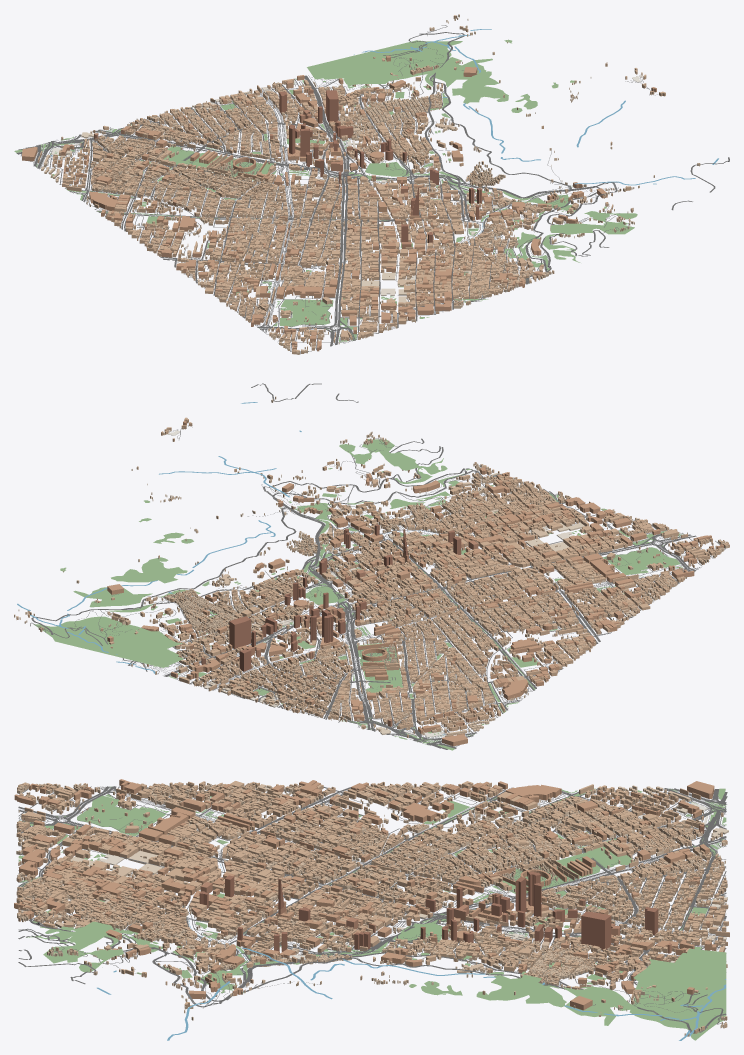
File: bogota_centro.glb
3 views of the same model, one above another, from view 1: azimuth 30°, elevation 25°; view 2: azimuth 150°, elevation 25°; view 3: azimuth 270°, elevation 25° (orthographic). The views are drawn at different scales.
Parts seen in each view (by area): view 1: Edificios_Zona, Vias_Zona, Verdes_Zona, Agua_Zona; view 2: Edificios_Zona, Vias_Zona, Verdes_Zona, Agua_Zona; view 3: Edificios_Zona, Verdes_Zona, Vias_Zona, Agua_Zona.
Part boxes in pixels (left/top/right/bottom): Edificios_Zona: left=22, top=14, right=700, bottom=354; Vias_Zona: left=16, top=25, right=729, bottom=354; Verdes_Zona: left=14, top=39, right=637, bottom=342; Agua_Zona: left=51, top=29, right=718, bottom=261; Edificios_Zona: left=14, top=396, right=729, bottom=746; Vias_Zona: left=30, top=383, right=725, bottom=749; Verdes_Zona: left=33, top=439, right=682, bottom=750; Agua_Zona: left=17, top=402, right=522, bottom=734; Edificios_Zona: left=14, top=779, right=729, bottom=1036; Verdes_Zona: left=18, top=786, right=726, bottom=1040; Vias_Zona: left=18, top=786, right=727, bottom=1033; Agua_Zona: left=97, top=802, right=726, bottom=1040.
Bounding box in the file's own units: 3376 × 637 × 3581.
